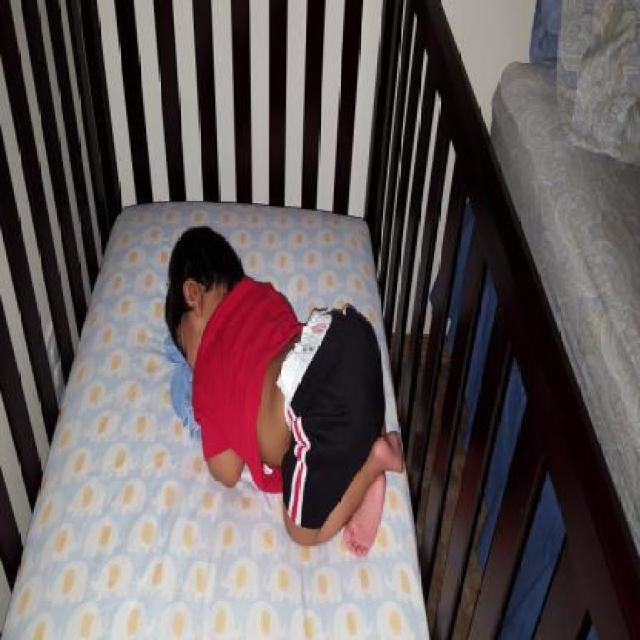child: (163, 225, 406, 559)
